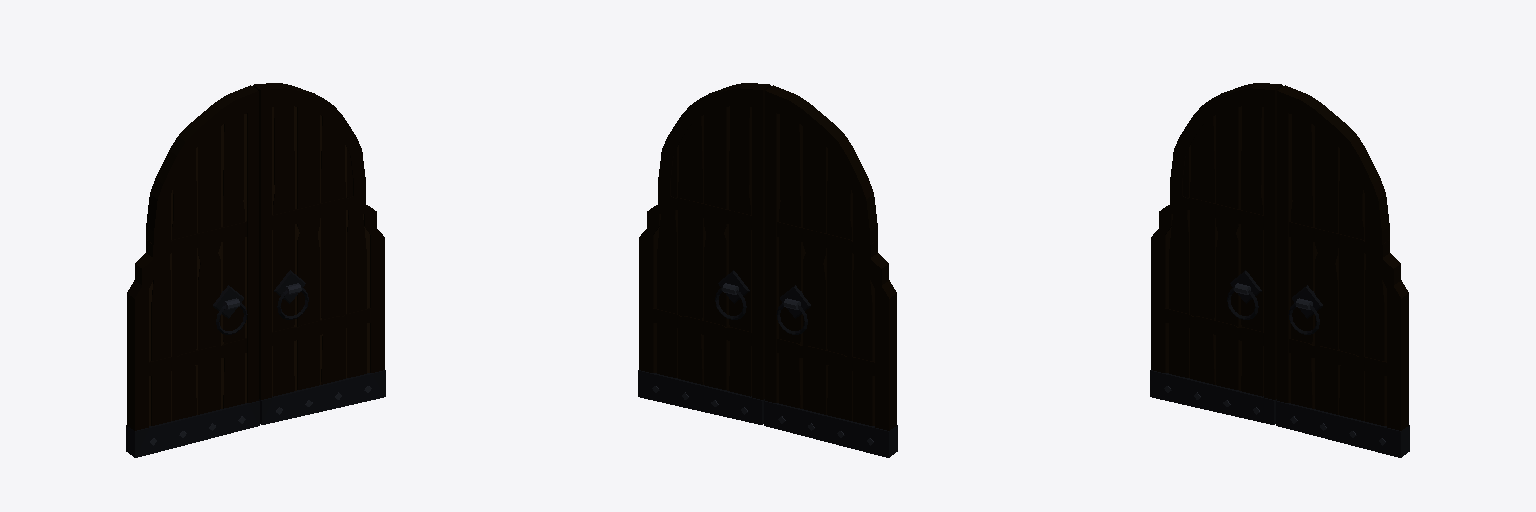
Rendered from Doors_RoundArch.obj.
The picture shows the model from 3 angles: view 1: azimuth 30°, elevation 25°; view 2: azimuth 150°, elevation 25°; view 3: azimuth 330°, elevation 25°; orthographic projection.
Visible parts, largest first — view 1: Doors_RoundArch_L_Cylinder.006, Doors_RoundArch_R_Cylinder.045; view 2: Doors_RoundArch_L_Cylinder.006, Doors_RoundArch_R_Cylinder.045; view 3: Doors_RoundArch_R_Cylinder.045, Doors_RoundArch_L_Cylinder.006.
Boxes of the visible parts, box(x1,y1,x2,y2) form: Doors_RoundArch_L_Cylinder.006: box(126, 85, 259, 457); Doors_RoundArch_R_Cylinder.045: box(253, 83, 385, 424); Doors_RoundArch_L_Cylinder.006: box(764, 85, 897, 457); Doors_RoundArch_R_Cylinder.045: box(638, 83, 770, 424); Doors_RoundArch_R_Cylinder.045: box(1276, 85, 1409, 457); Doors_RoundArch_L_Cylinder.006: box(1150, 83, 1282, 424).
Bounding box in the file's own units: 2.31 × 2.97 × 0.2743.